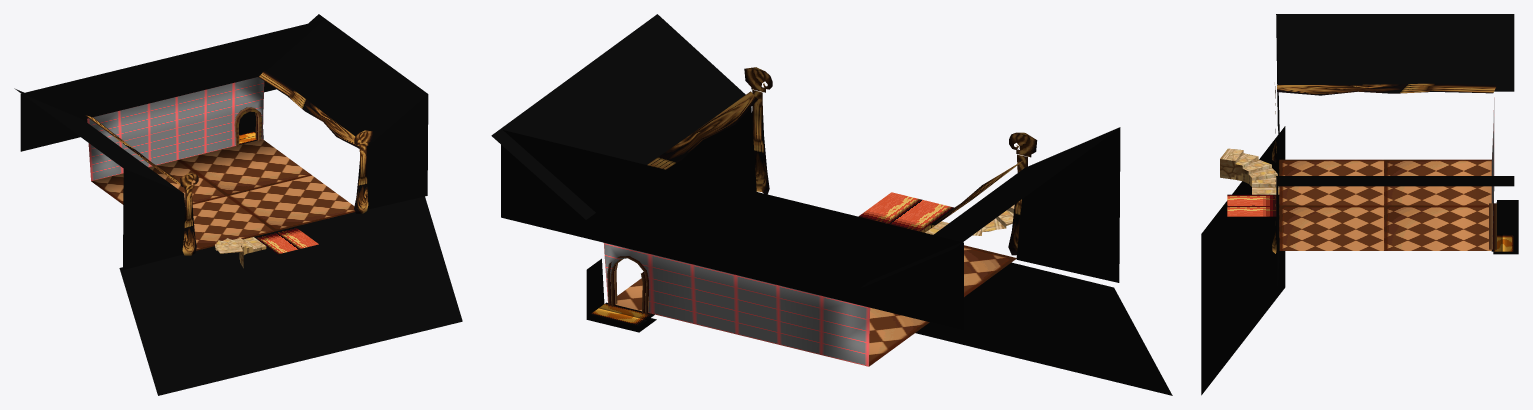
3 views of the same model, side by side, from view 1: azimuth 30°, elevation 25°; view 2: azimuth 150°, elevation 25°; view 3: azimuth 270°, elevation 25° (orthographic). The views are drawn at different scales.
Parts seen in each view (by area): view 1: sh_pc_l01; view 2: sh_pc_l01; view 3: sh_pc_l01.
Boxes of the visible parts, box(x1,y1,x2,y2) form: sh_pc_l01: box(14, 14, 462, 395); sh_pc_l01: box(491, 14, 1172, 395); sh_pc_l01: box(1201, 14, 1518, 395).
Size of the model in its own units: 5.5 by 3.49 by 4.56.
10 materials, 10 textured.
